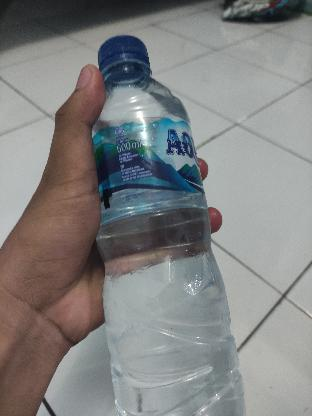Plastic Bottle: (90, 32, 248, 416)
